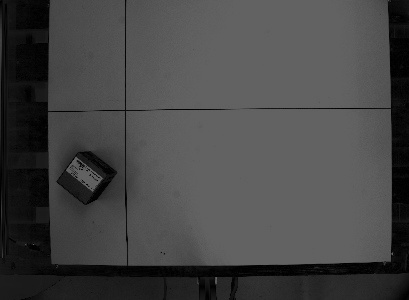b7: (52, 148, 119, 205)
